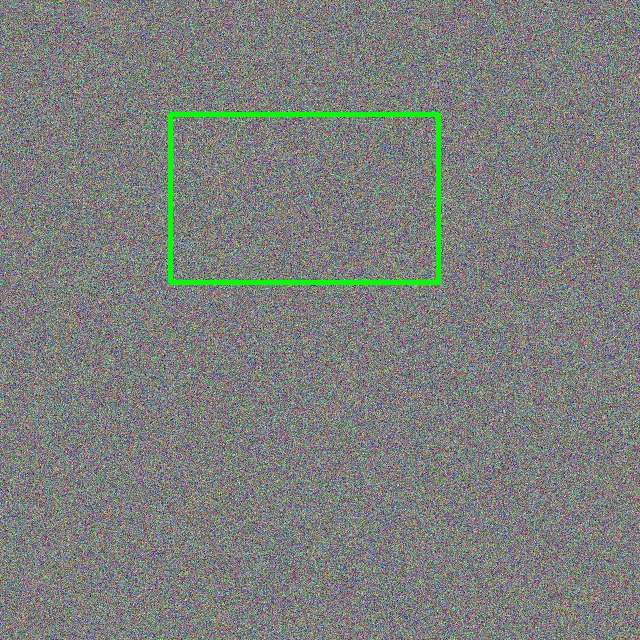base: (170, 114, 438, 282)
